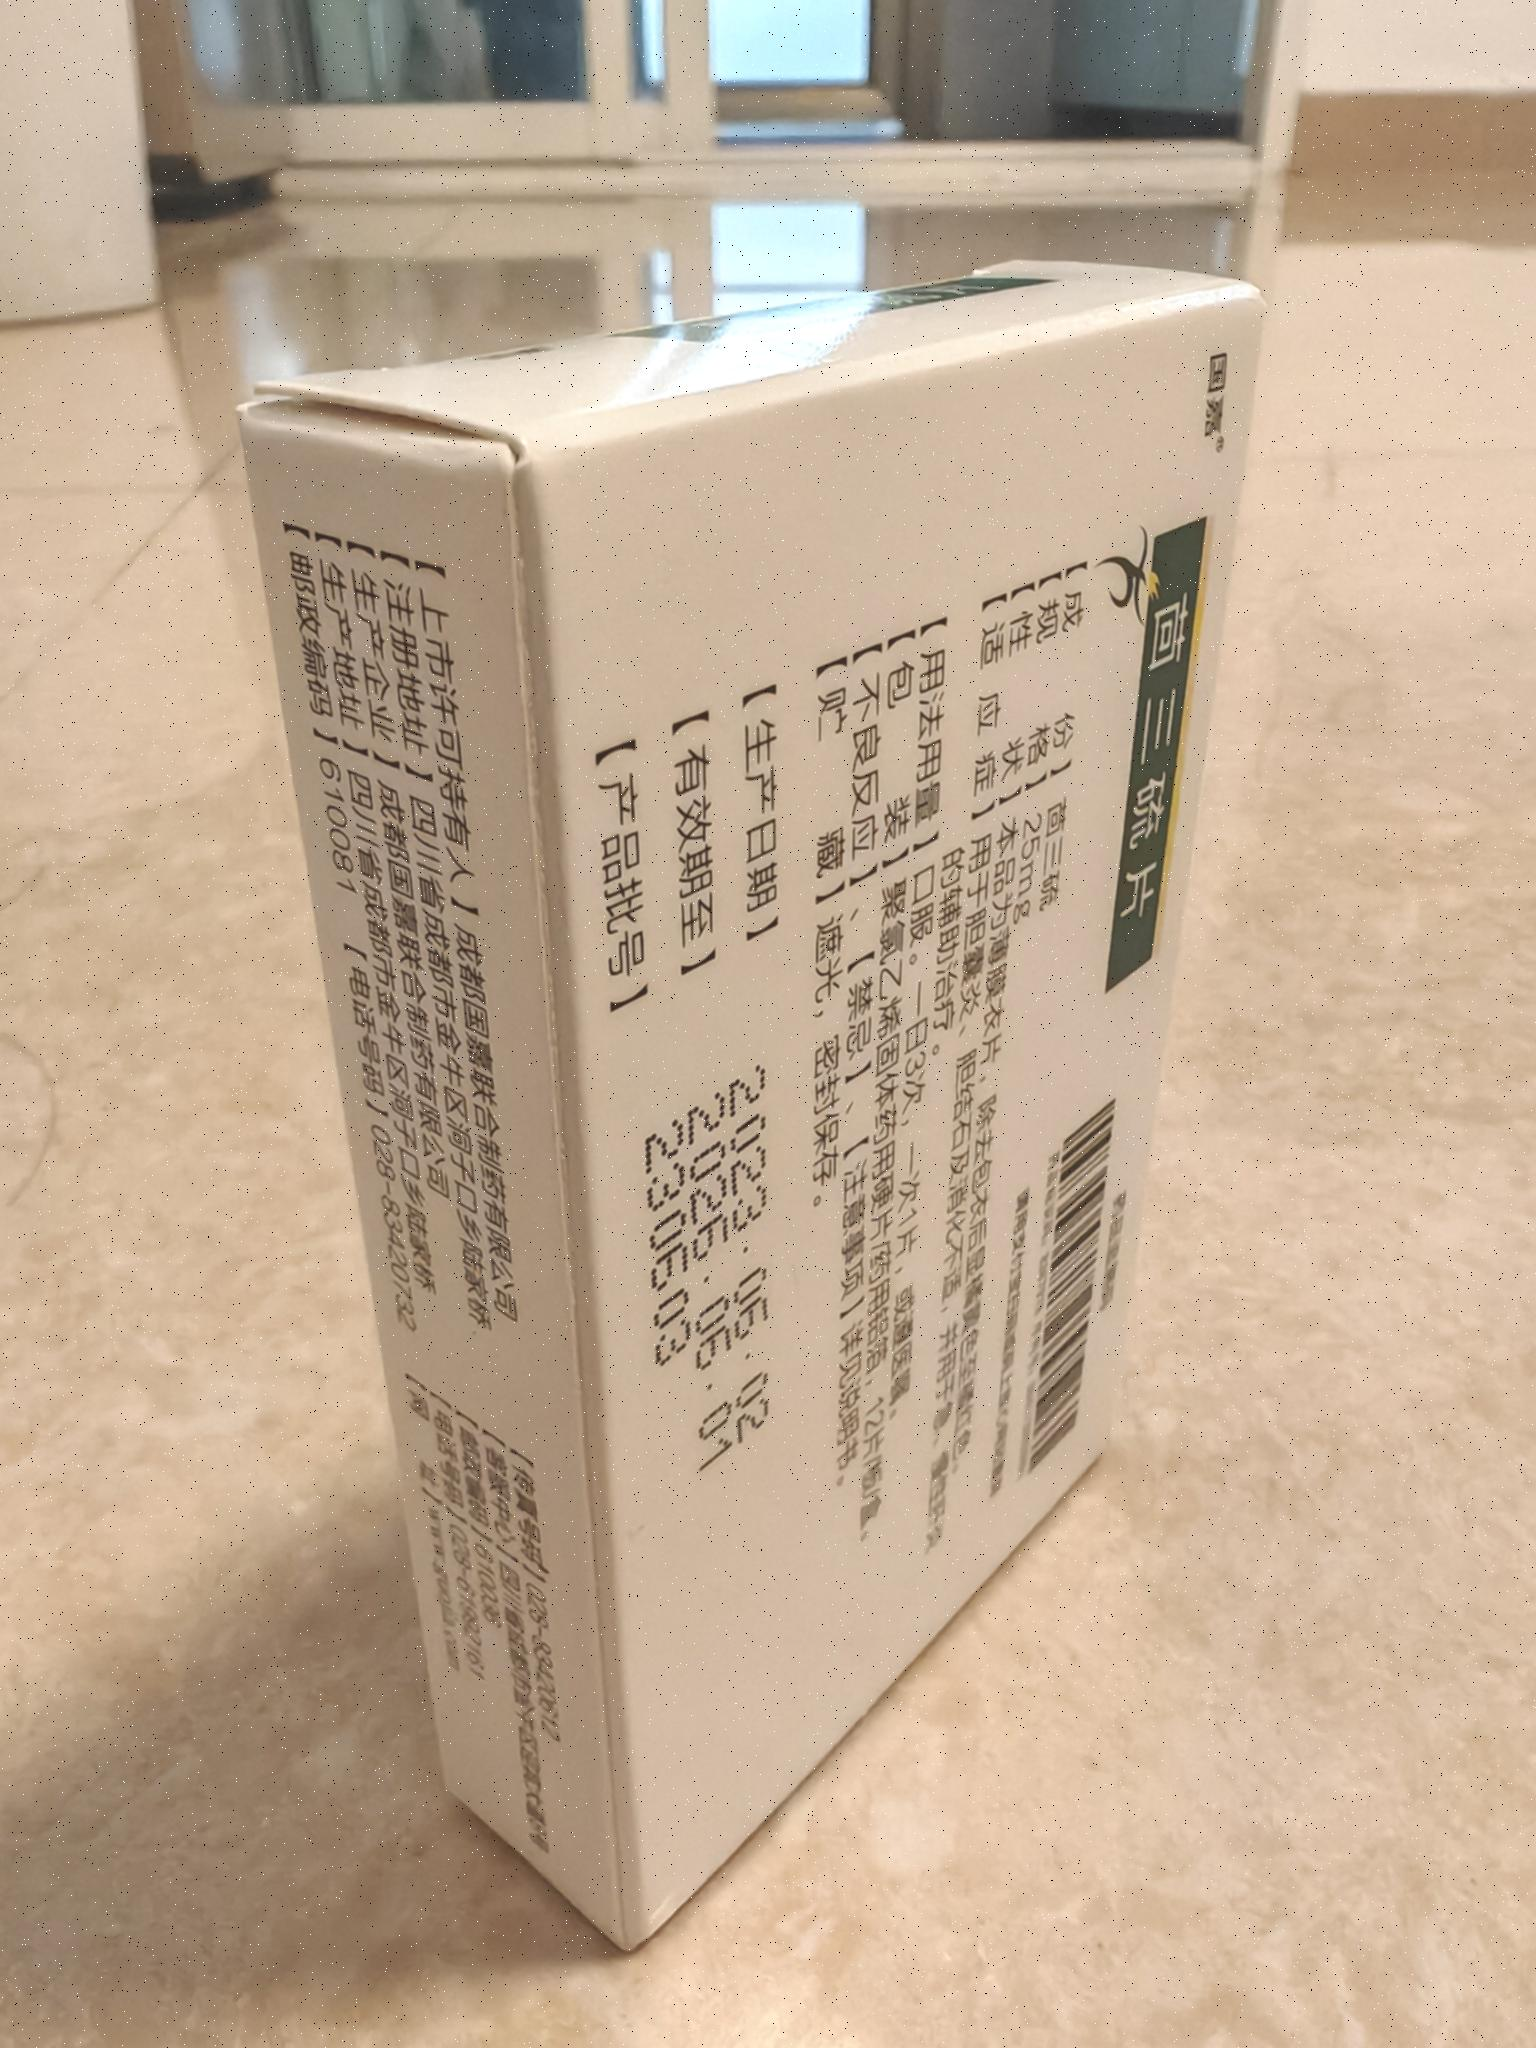Medicine4: (218, 245, 1302, 1977)
